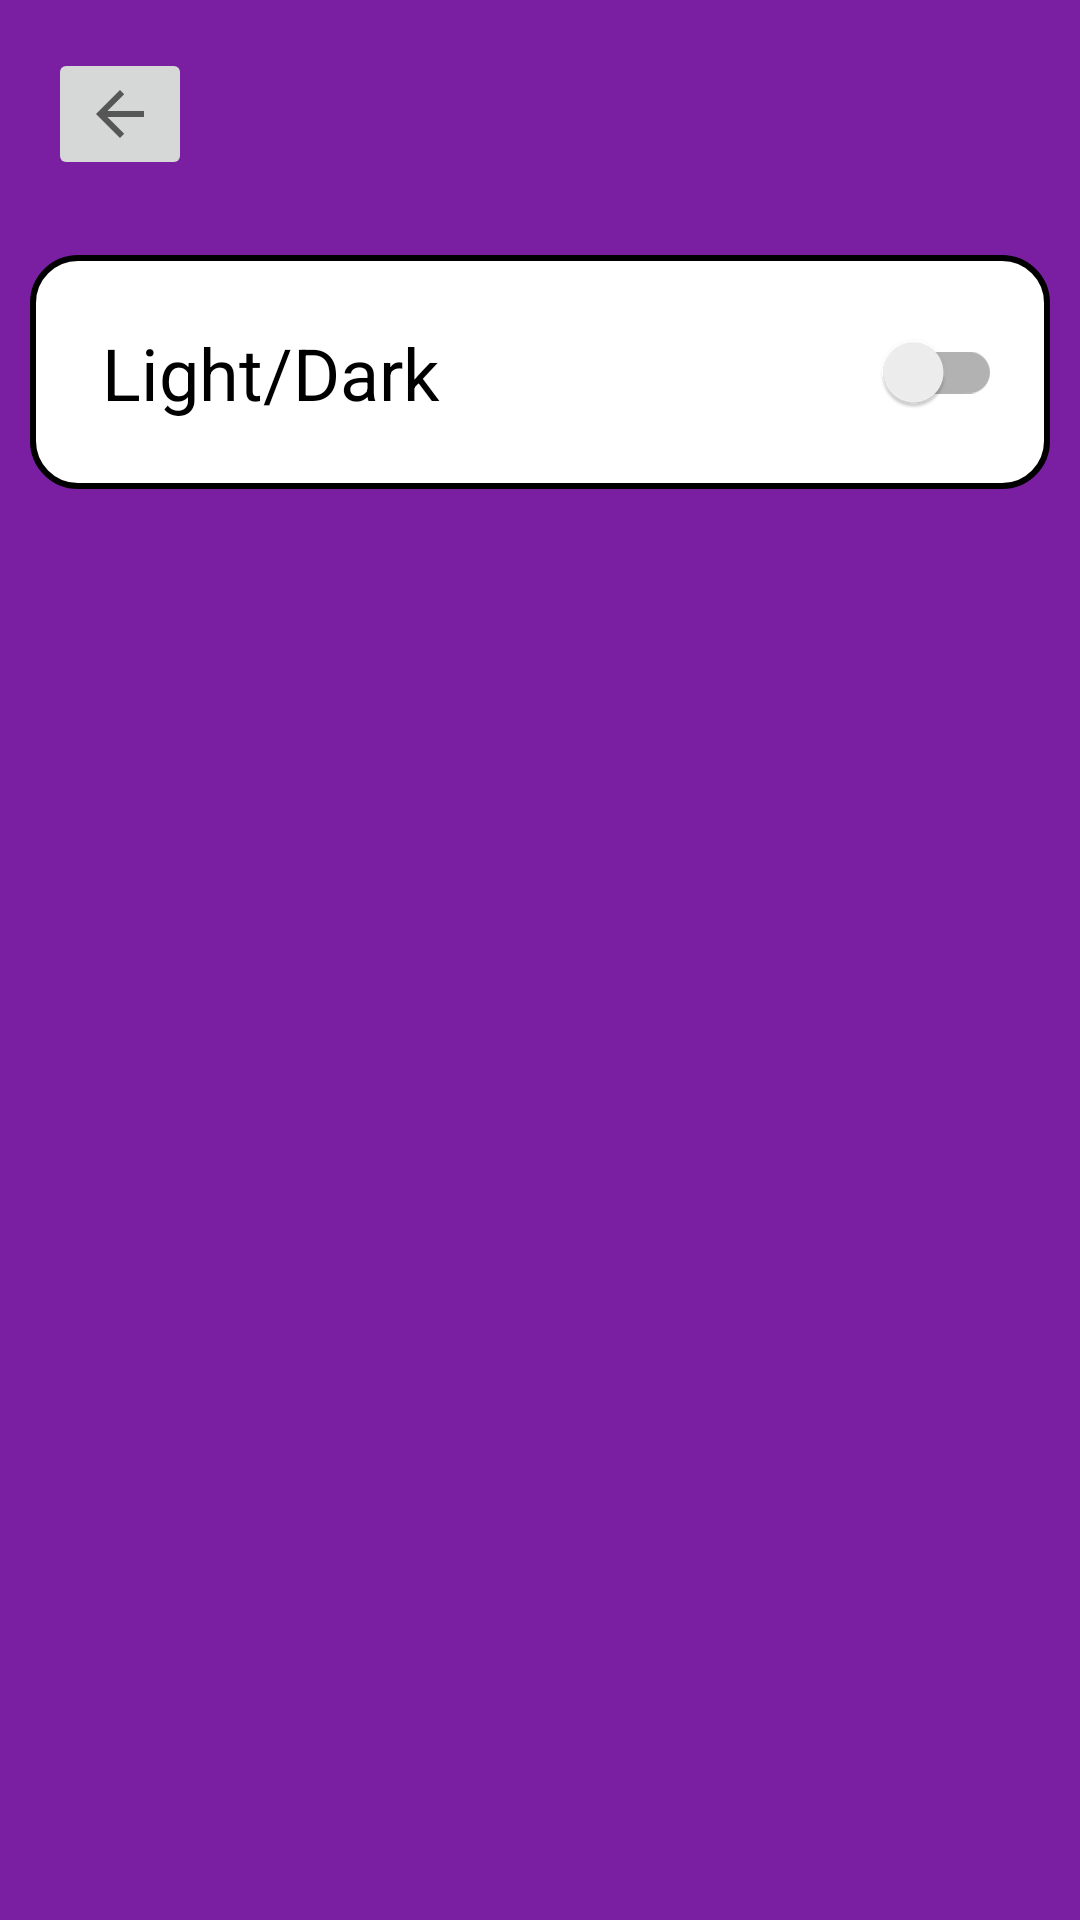

Icon bounding boxes for this 1080*1920 phone screenshot, format (x1, y1, x2, y2):
Back button Icon: (60, 66, 180, 162)
